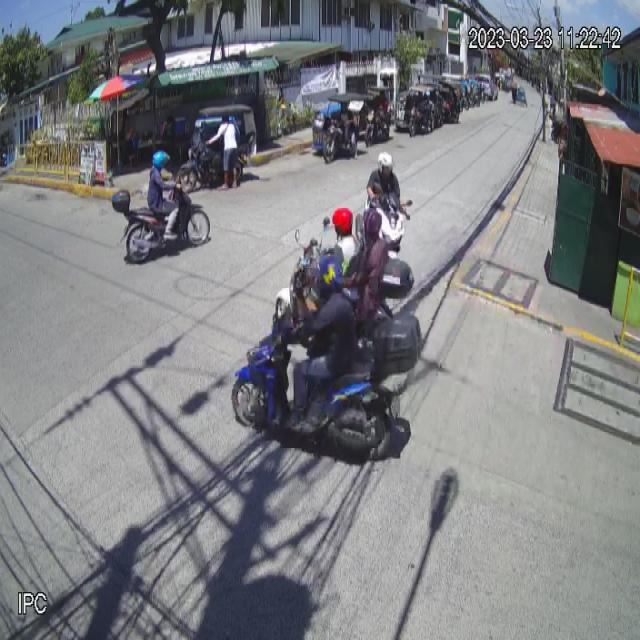Motorcycle: (231, 308, 423, 465), (110, 175, 211, 267)
